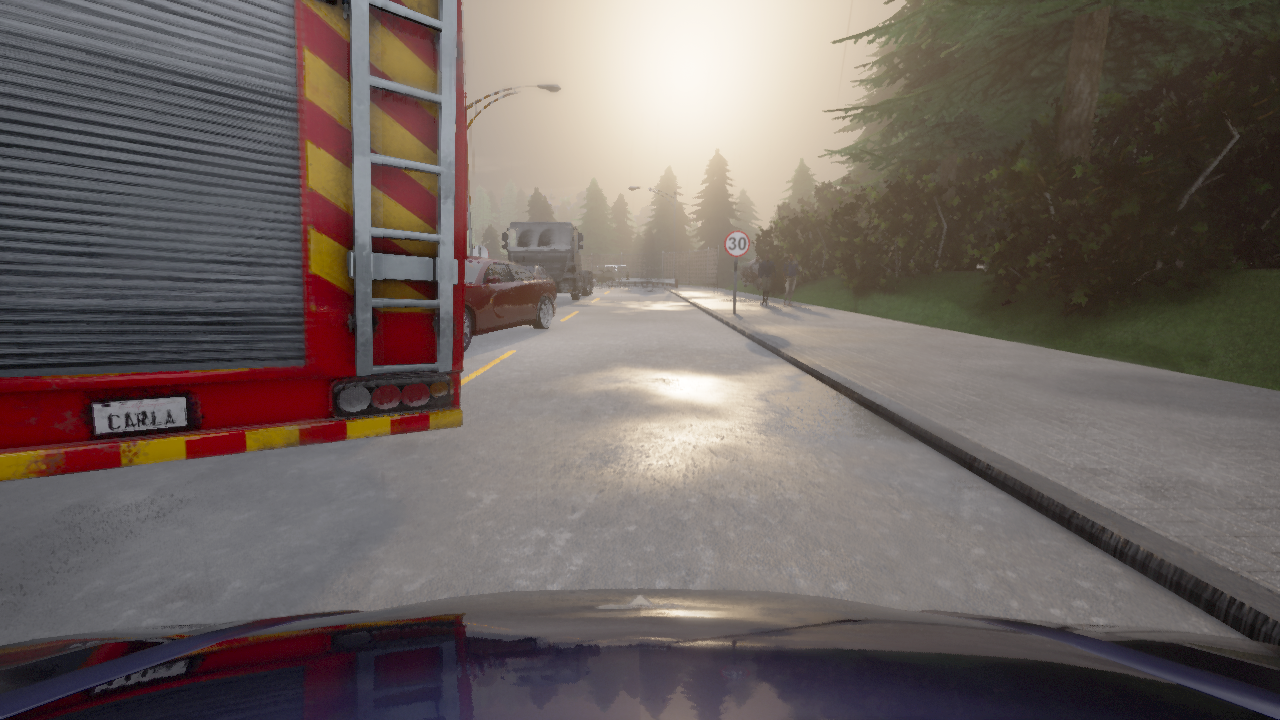cyclist: (0, 588, 1279, 719), (463, 257, 557, 350), (501, 221, 593, 300), (590, 264, 630, 286), (739, 257, 761, 289), (521, 264, 553, 279), (581, 269, 586, 270)
pedestrian: (758, 252, 776, 306), (782, 253, 800, 304)
